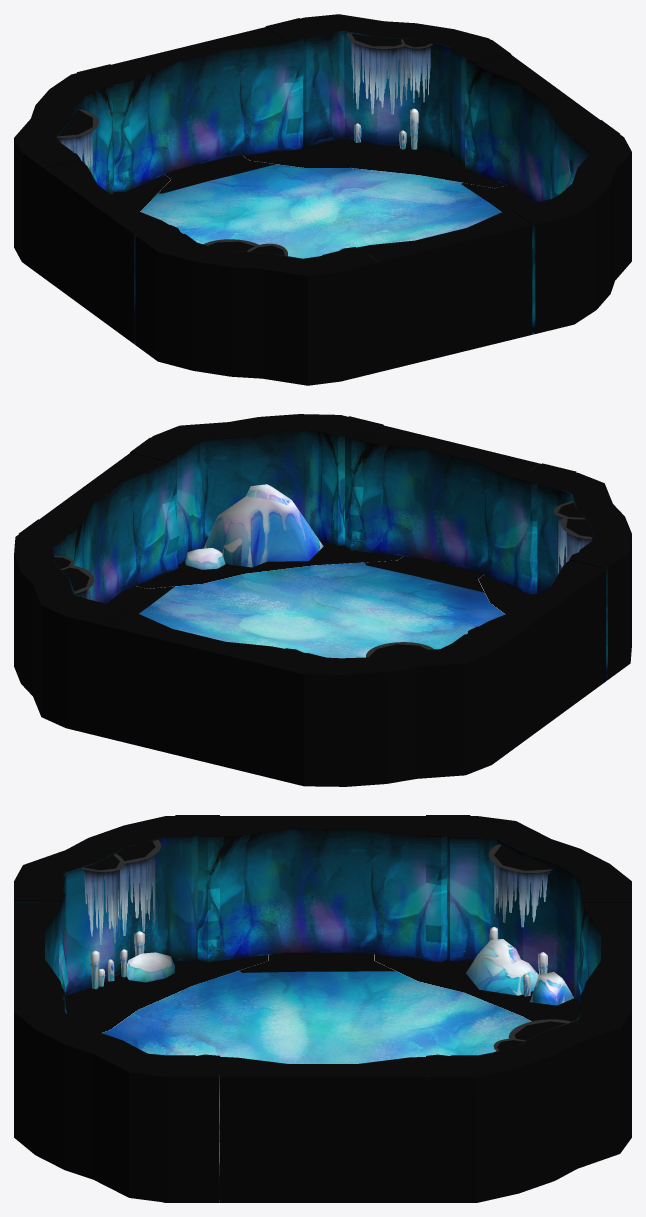
Rendered from Dungeon_072_SpecialRoom_001.fbx.
The picture shows the model from 3 angles, top to bottom: view 1: azimuth 30°, elevation 25°; view 2: azimuth 150°, elevation 25°; view 3: azimuth 270°, elevation 25°; orthographic projection. The views are drawn at different scales.
Parts seen in each view (by area): view 1: Dun_072_Door_002 (×4), Dun_072_StartRoom_001_wall, Dun_072_StartRoom_001_ground, Dun_072_OB_Icicle, Dun_072_StartRoom_001_shadow, Dun_072_Door_002_shadow (×2), Dun_072_OB_Ice_crystals01; view 2: Dun_072_Door_002 (×4), Dun_072_StartRoom_001_wall, Dun_072_StartRoom_001_ground, Dun_072_OB_Stone02, Dun_072_StartRoom_001_shadow, Dun_072_OB_Icicle, Dun_072_Door_002_shadow (×2), Dun_072_OB_Stone01; view 3: Dun_072_StartRoom_001_wall, Dun_072_Door_002 (×4), Dun_072_StartRoom_001_ground, Dun_072_StartRoom_001_shadow, Dun_072_OB_Icicle, Dun_072_OB_Stone02, Dun_072_Door_002_shadow, Dun_072_OB_Stone01, Dun_072_OB_Ice_crystals01.
Part boxes in pixels (x1,y1,x2,y2): Dun_072_Door_002 (×4): (25,18,619,371); Dun_072_StartRoom_001_wall: (14,14,631,385); Dun_072_StartRoom_001_ground: (134,164,534,344); Dun_072_OB_Icicle: (57,33,432,255); Dun_072_StartRoom_001_shadow: (111,139,534,342); Dun_072_Door_002_shadow (×2): (158,155,534,212); Dun_072_OB_Ice_crystals01: (354,108,418,149); Dun_072_Door_002 (×4): (18,416,625,776); Dun_072_StartRoom_001_wall: (14,414,631,786); Dun_072_StartRoom_001_ground: (139,562,607,680); Dun_072_OB_Stone02: (203,484,323,567); Dun_072_StartRoom_001_shadow: (136,541,607,678); Dun_072_OB_Icicle: (54,501,592,657); Dun_072_Door_002_shadow (×2): (106,556,484,613); Dun_072_OB_Stone01: (185,548,225,569); Dun_072_StartRoom_001_wall: (14,816,631,1202); Dun_072_Door_002 (×4): (14,815,631,1202); Dun_072_StartRoom_001_ground: (102,971,531,1202); Dun_072_StartRoom_001_shadow: (65,954,580,1200); Dun_072_OB_Icicle: (81,840,571,1051); Dun_072_OB_Stone02: (466,939,538,995); Dun_072_Door_002_shadow: (239,952,395,972); Dun_072_OB_Stone01: (126,952,574,1005); Dun_072_OB_Ice_crystals01: (90,927,547,996).
Size of what is drawn, in the model's own units: 9 by 2.05 by 9.
